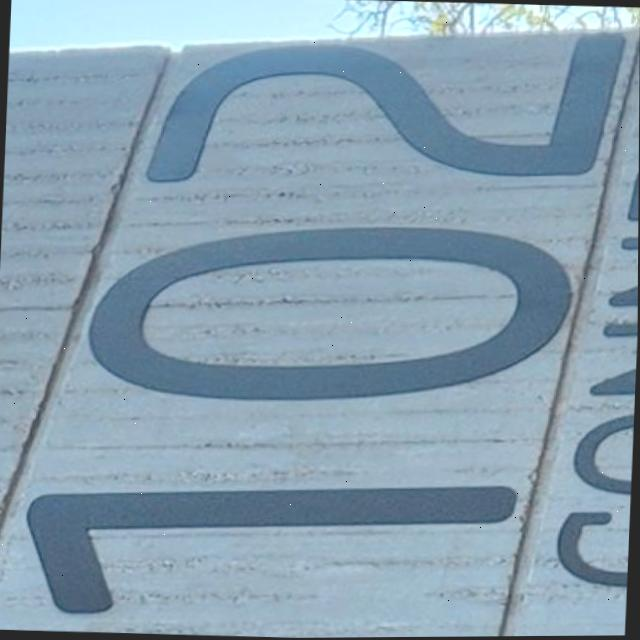character: (81, 207, 582, 419), (136, 6, 636, 203), (15, 461, 524, 636)
